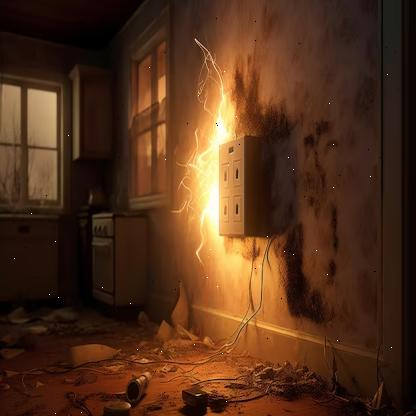fire: (190, 94, 241, 238)
